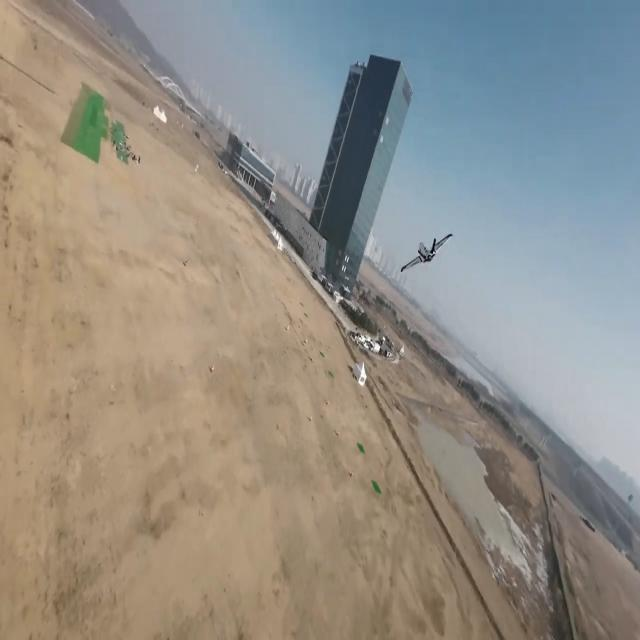iha: (426, 224, 431, 280)
